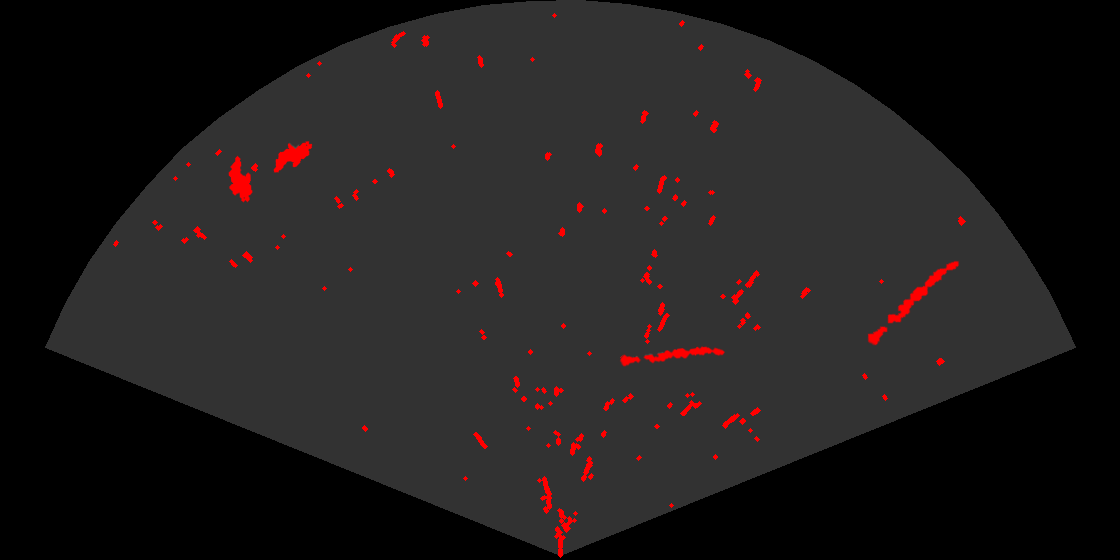AUV: (272, 140, 314, 174), (227, 154, 254, 204)
chain: (866, 259, 961, 347), (618, 345, 726, 368)
